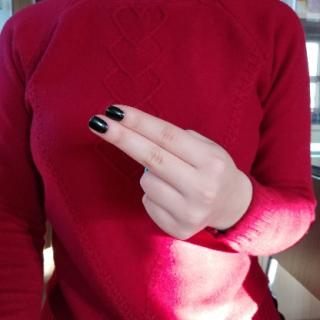AYN: (86, 99, 247, 238)
